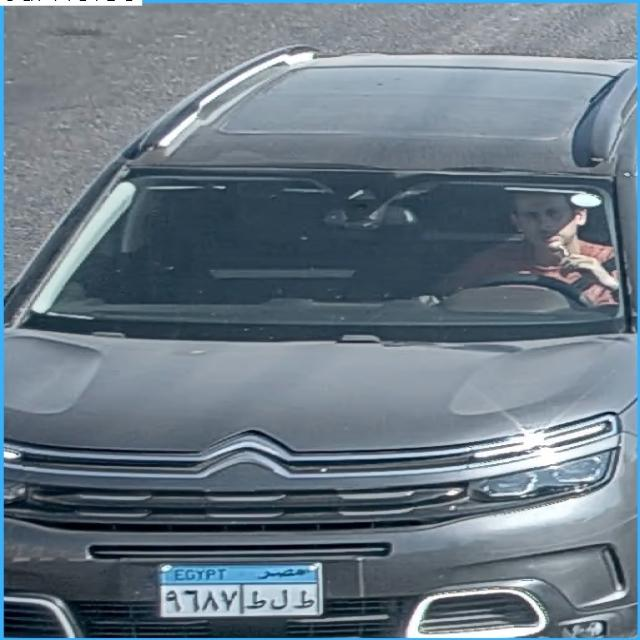windshield: (24, 169, 621, 333)
